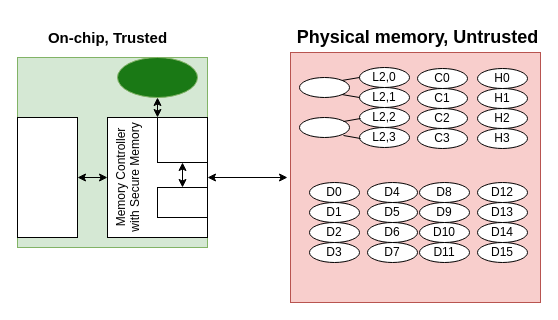
The diagram is 558 pixels wide and 320 high, and some of its shapes have lost their labels. The shapes that lost their labels are listed below. From the top down, each one's box as (x1, y1, x2, y2) in pixels, then its label:
(116, 56, 198, 98): Root of Bonsai Merkle Tree
(298, 76, 350, 98): L1,0
(156, 116, 208, 162): Sec Mem Logic
(298, 116, 350, 138): L1,1
(16, 116, 78, 238): LLC
(156, 186, 208, 218): AES Engine
